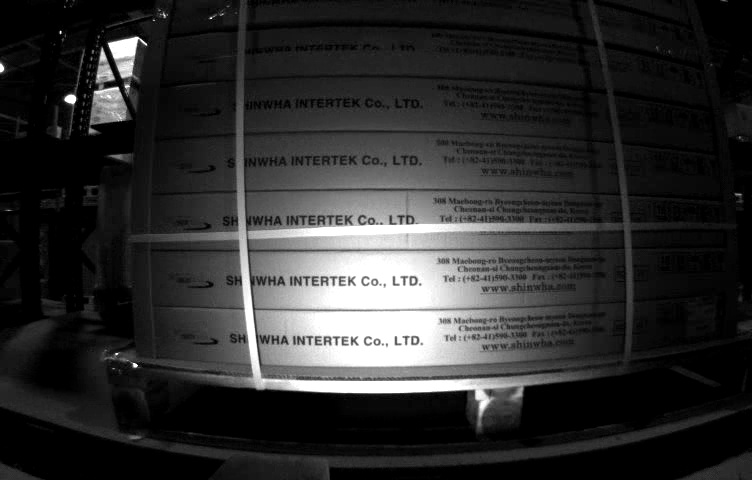True Barcode: (684, 292, 716, 335)
